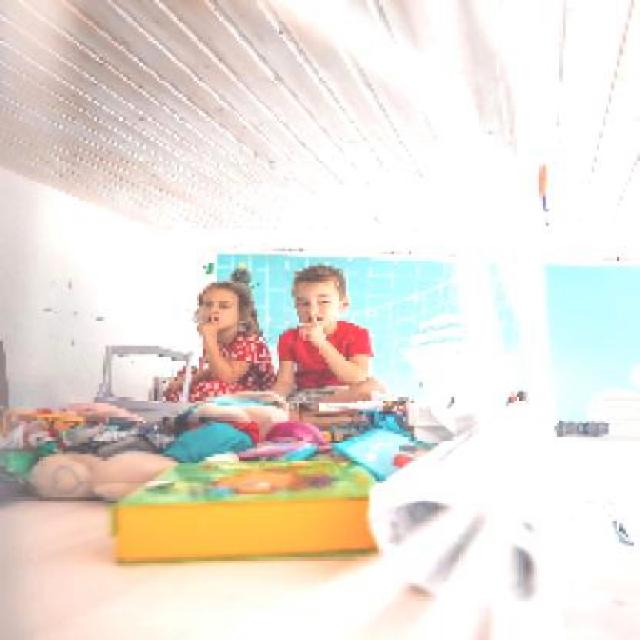child: (268, 263, 388, 400), (162, 267, 278, 402)
